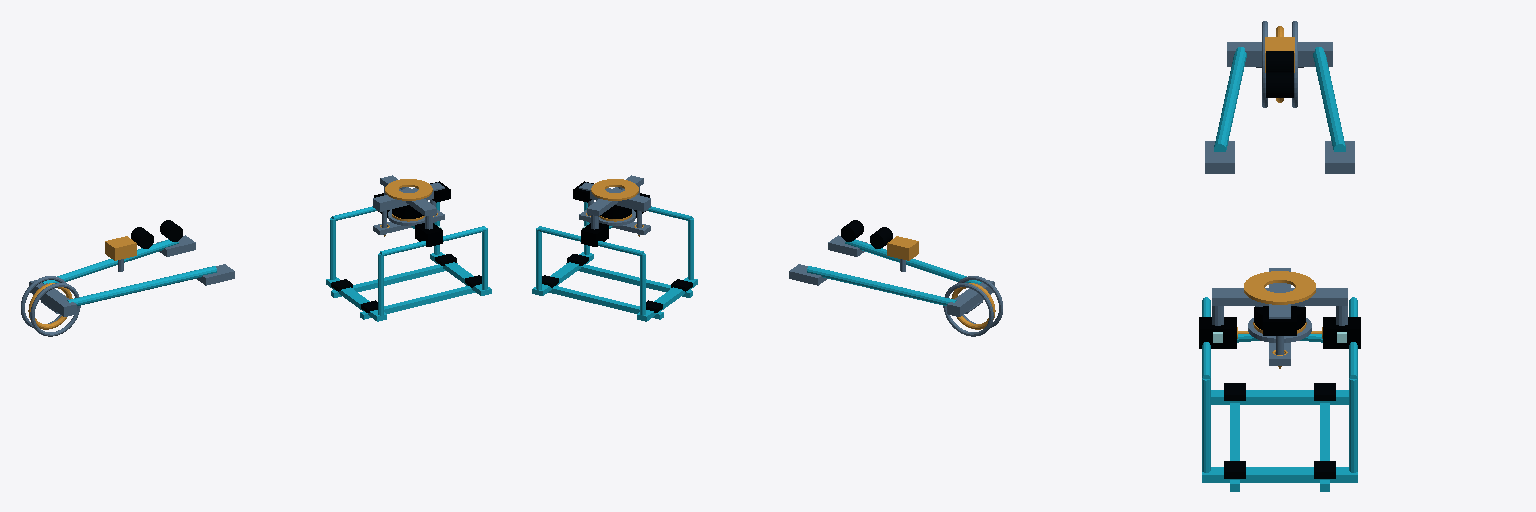
URDF robot description (recovery_concept):
<?xml version="1.0"?>
<!-- Visual description only. Fixed placements are source estimates, not measured extrinsics. -->
<robot name="recovery_concept">
<link name="base_link"/>
<link name="capture_head"><visual><geometry><mesh filename="package://usv_rov_description/meshes/recovery_concept/capture_head.dae"/></geometry></visual></link><joint name="capture_head_fixed" type="fixed"><parent link="base_link"/><child link="capture_head"/><origin xyz="0 0 0" rpy="0 0 0"/></joint>
<link name="rov_yoke"><visual><geometry><mesh filename="package://usv_rov_description/meshes/recovery_concept/rov_yoke.dae"/></geometry></visual></link><joint name="rov_yoke_fixed" type="fixed"><parent link="base_link"/><child link="rov_yoke"/><origin xyz="0 0 0" rpy="0 0 0"/></joint>
<link name="tether_guide"><visual><geometry><mesh filename="package://usv_rov_description/meshes/recovery_concept/tether_guide.dae"/></geometry></visual></link><joint name="tether_guide_fixed" type="fixed"><parent link="base_link"/><child link="tether_guide"/><origin xyz="0 0 0" rpy="0 0 0"/></joint>
</robot>

--- Render facts (derived) ---
3 views of the same robot in one strip: view 1: azimuth 30°, elevation 25°; view 2: azimuth 150°, elevation 25°; view 3: azimuth 270°, elevation 25° (orthographic).
Robot: recovery_concept — 4 links, 3 joints (3 fixed); root link base_link; default pose: every joint at zero.
Visible links, largest first — view 1: tether_guide, rov_yoke, capture_head; view 2: tether_guide, rov_yoke, capture_head; view 3: rov_yoke, tether_guide, capture_head.
Boxes of the visible links, left/top/right/bottom form: tether_guide: left=21, top=220, right=234, bottom=336; rov_yoke: left=326, top=202, right=491, bottom=321; capture_head: left=373, top=175, right=450, bottom=246; tether_guide: left=789, top=220, right=1002, bottom=336; rov_yoke: left=532, top=202, right=697, bottom=321; capture_head: left=573, top=175, right=650, bottom=246; rov_yoke: left=1202, top=297, right=1357, bottom=491; tether_guide: left=1205, top=21, right=1354, bottom=173; capture_head: left=1199, top=268, right=1360, bottom=368.
Bounding box of the posed robot: 1.84 × 0.38 × 0.502 m (x, y, z).
Meshes: 3 distinct files referenced, 3 mesh visuals loaded (3 Collada DAE).
